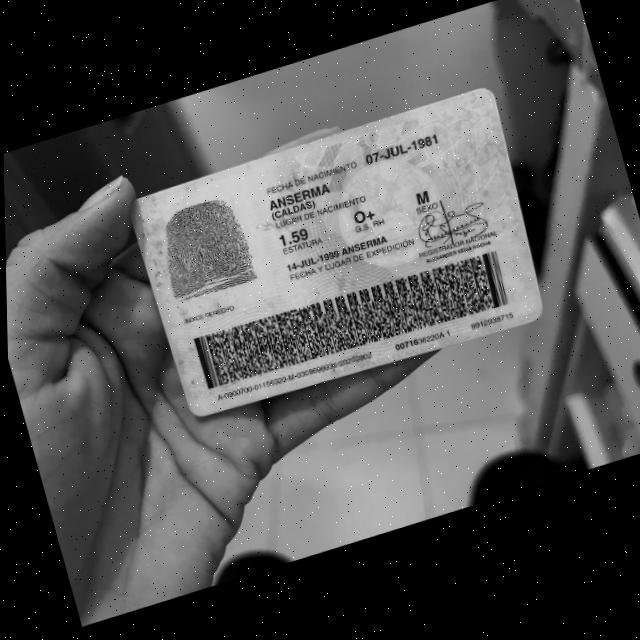card: (133, 90, 541, 415)
